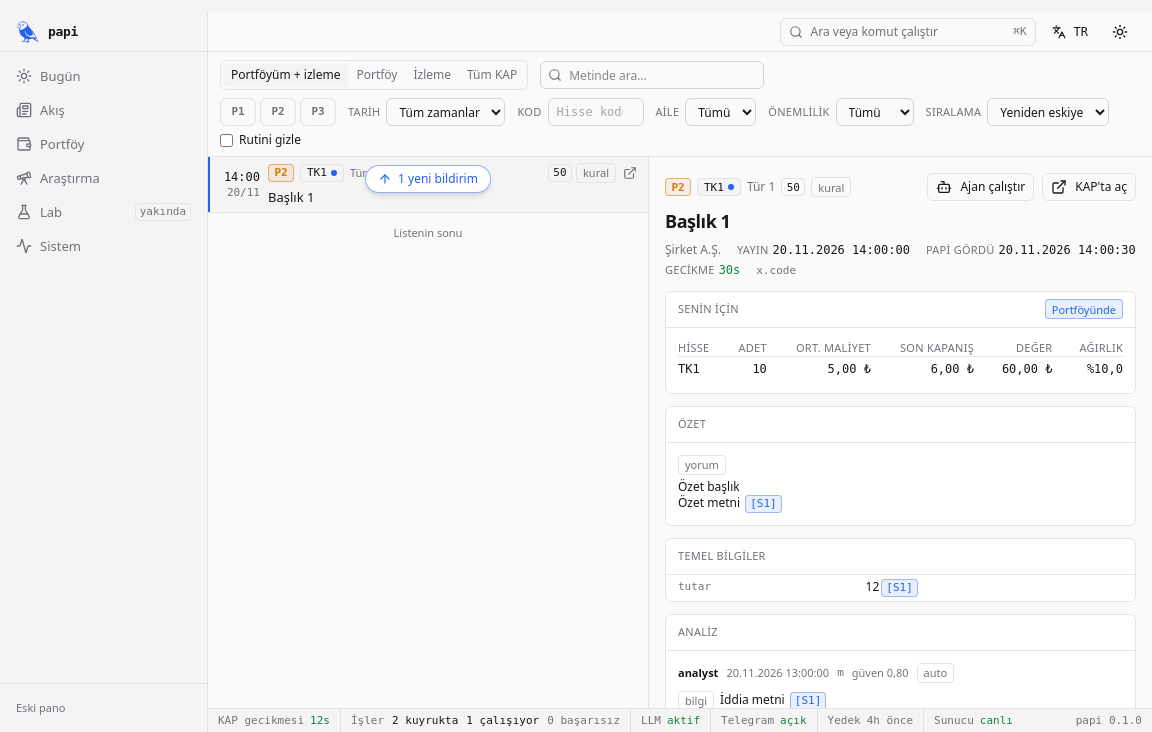
Scenario: feed › holds live items behind the pill while a row is selected
Expected: the text "Başlık 1" is shown, [268,188,314,206]
Expected: the text "Başlık 5" is not shown
Click the button "1 yeni bildirim".
click(428, 179)  # box [365,165,491,193]
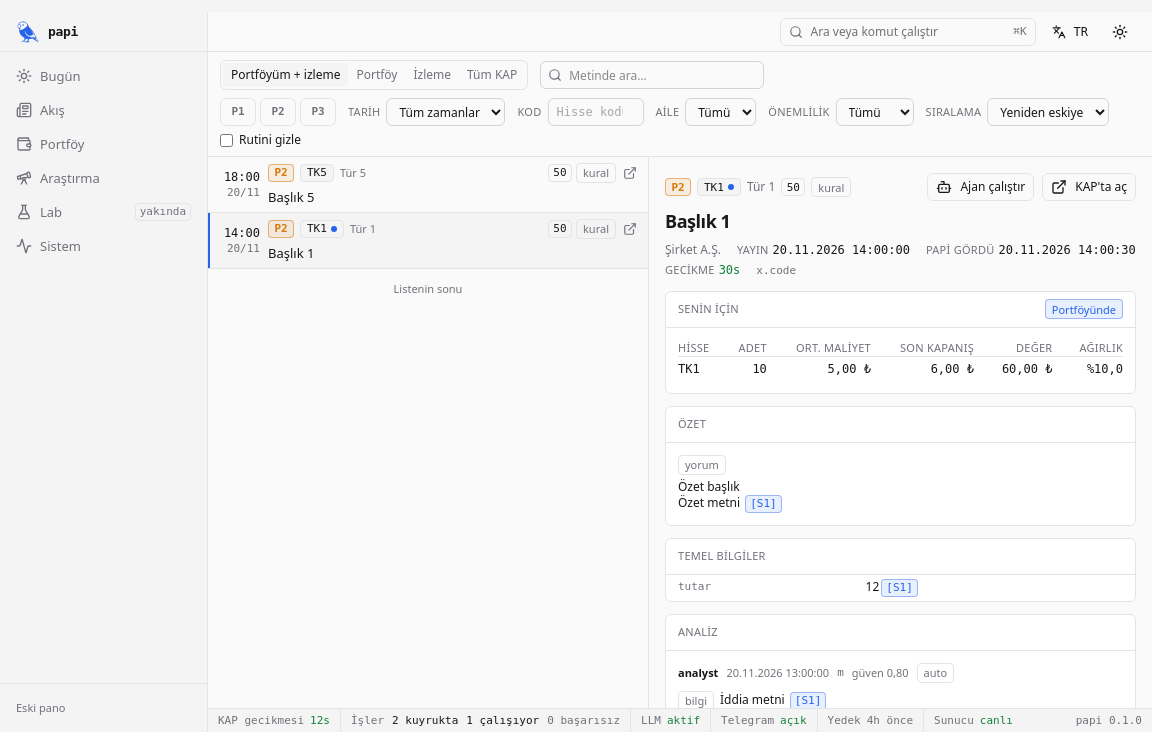
Expected: the text "Başlık 5" is shown, [268,188,314,206]
